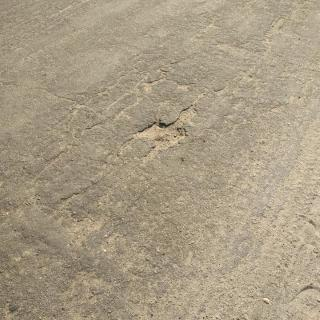pothole: (117, 103, 200, 172)
